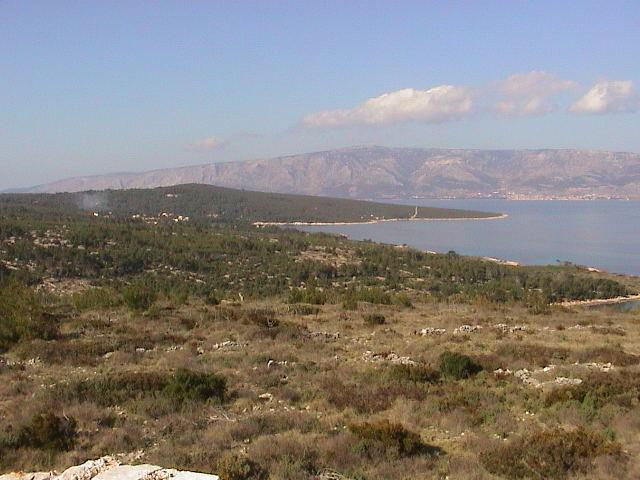Smoke: (75, 187, 119, 212)
